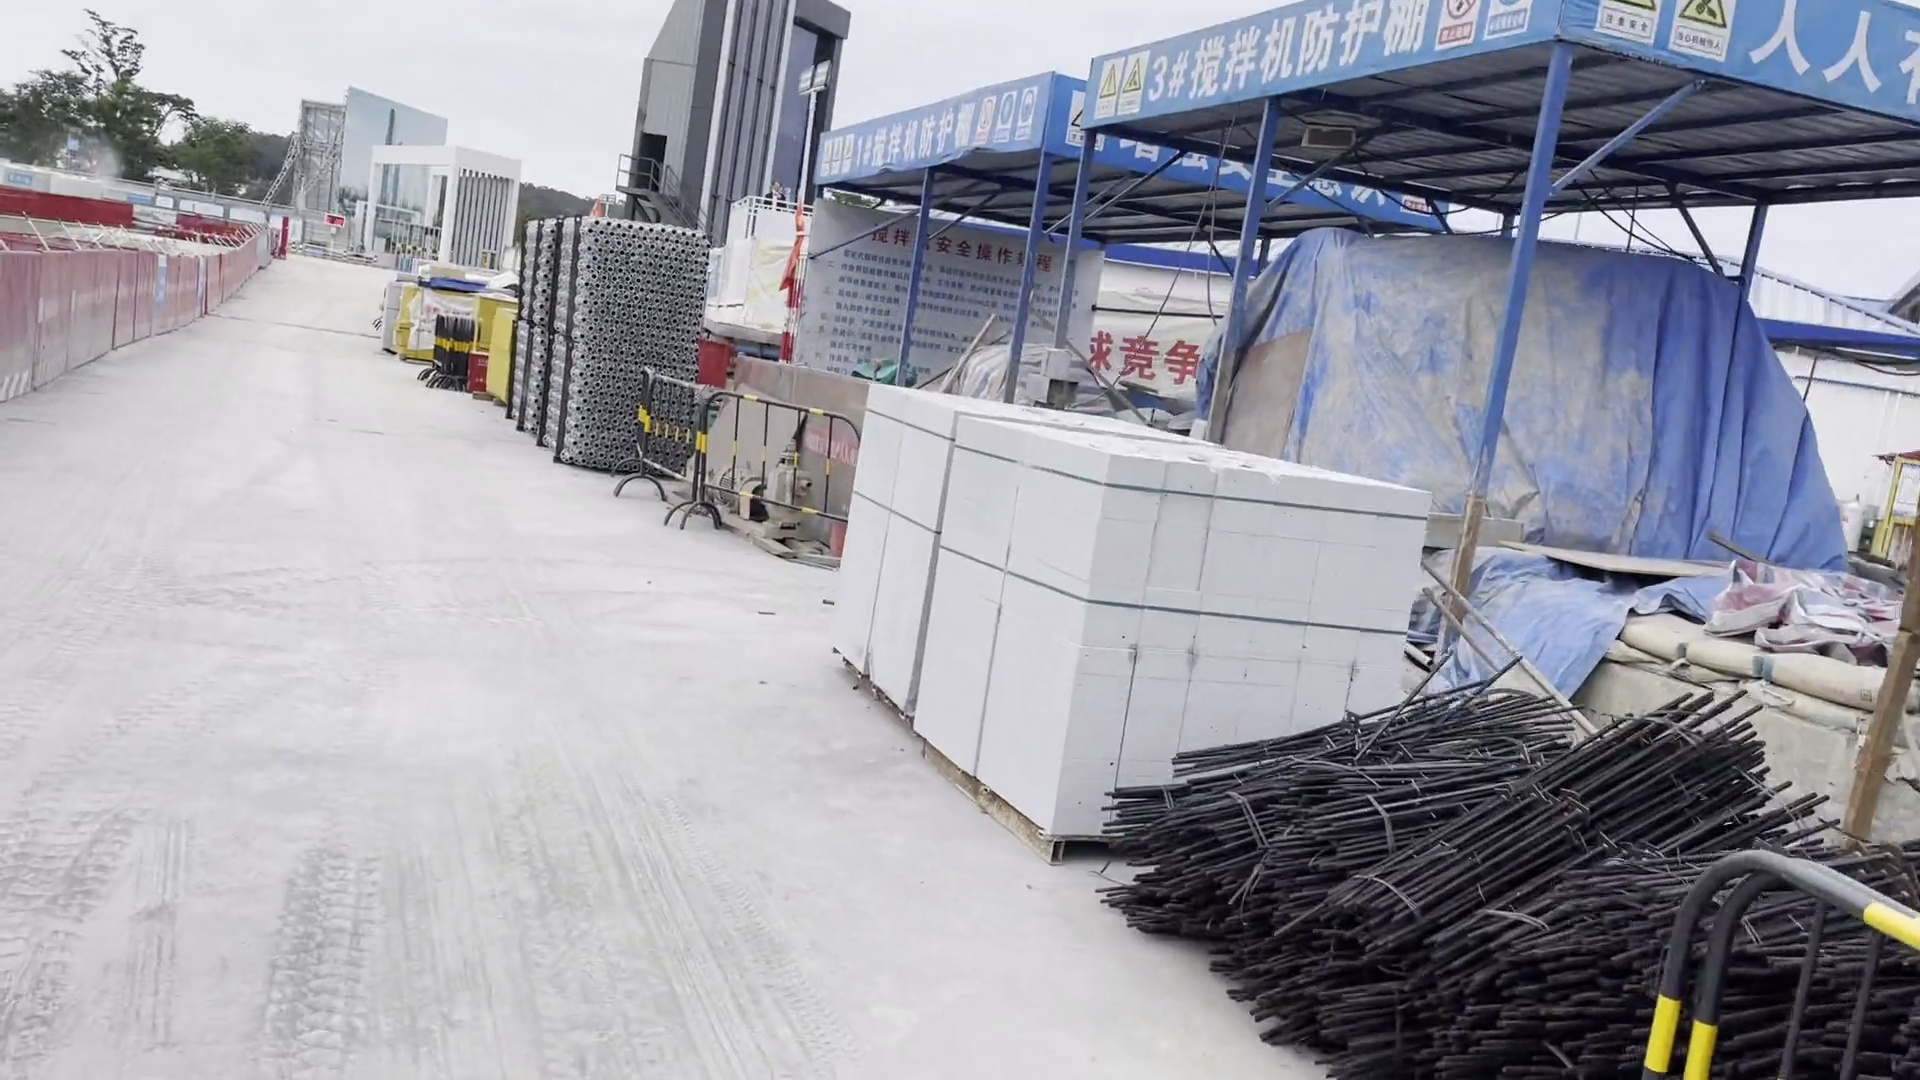brick: (815, 353, 1423, 853)
fence: (1, 223, 270, 407), (3, 189, 249, 245)
scaffold: (506, 220, 717, 472)
